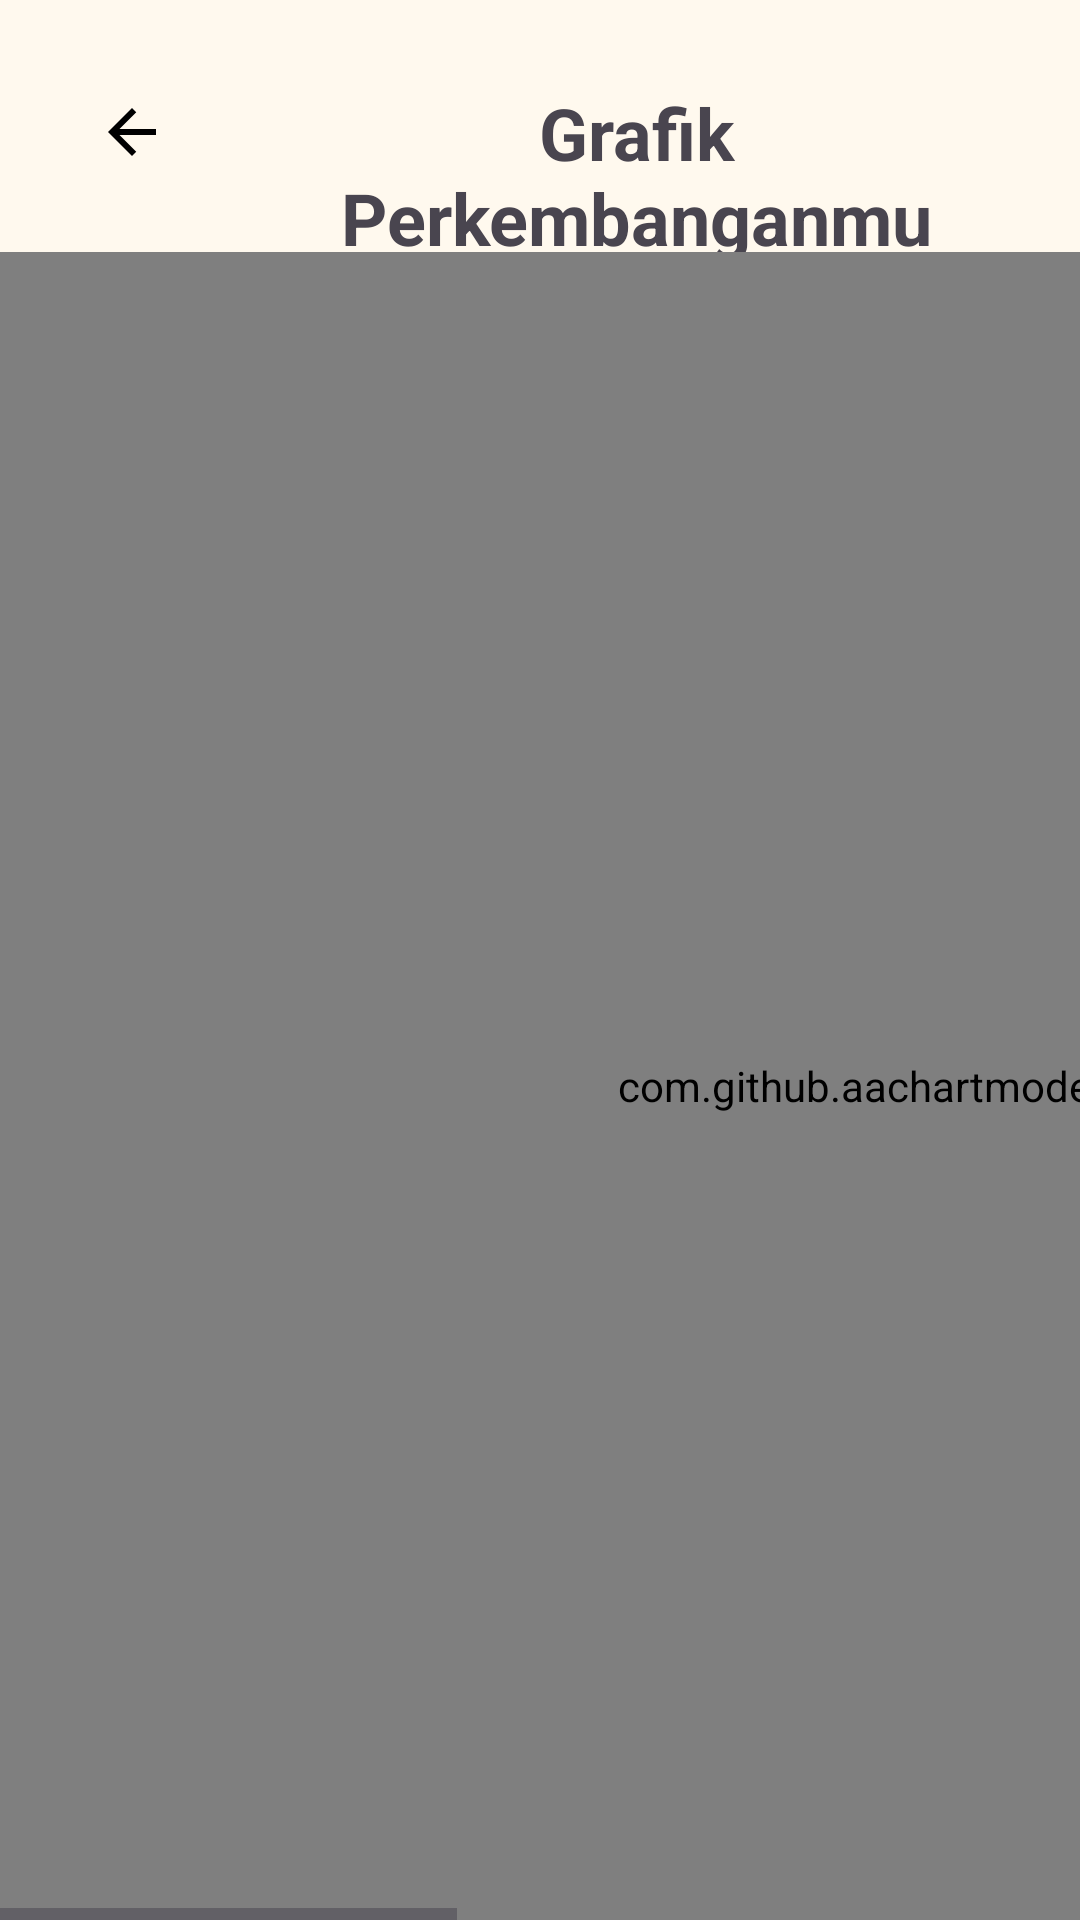

Icon click points for this 1080w x 1920h phone screenshot, format point (x, y):
arrow back: point (132, 132)
